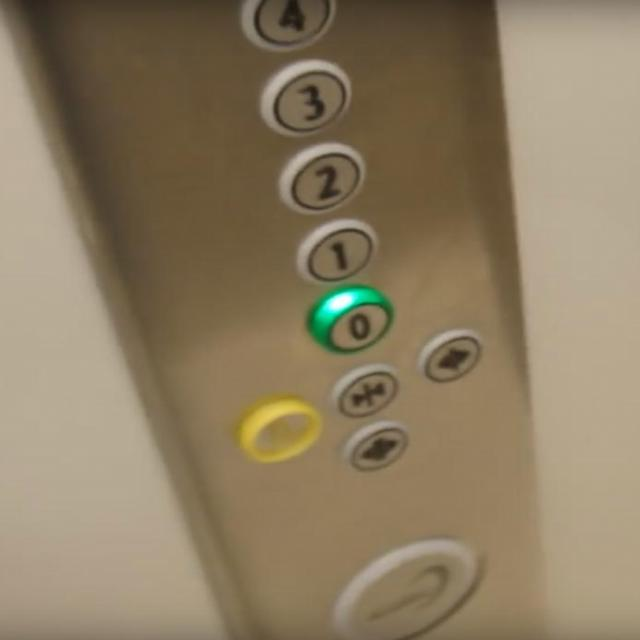0: (302, 282, 398, 356)
1: (295, 218, 379, 286)
2: (277, 142, 365, 214)
3: (258, 58, 350, 139)
4: (240, 0, 335, 52)
blur: (232, 394, 323, 465)
close: (329, 361, 403, 417)
open: (417, 326, 490, 384), (340, 421, 412, 474)
